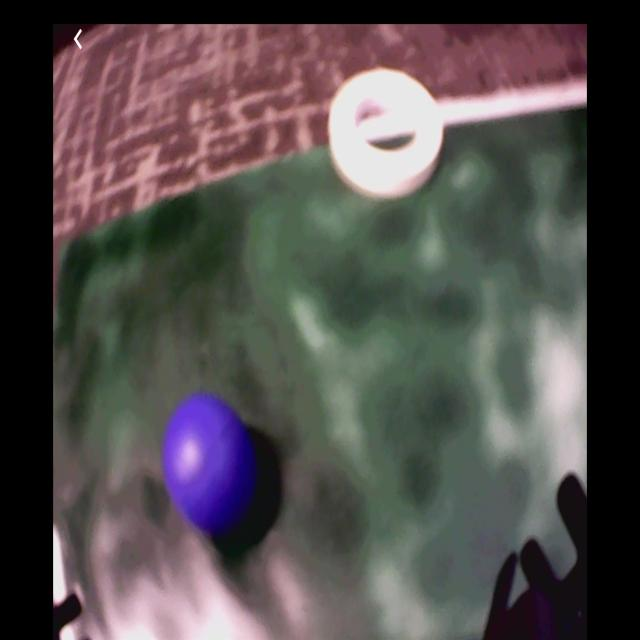ball: (164, 394, 255, 534)
